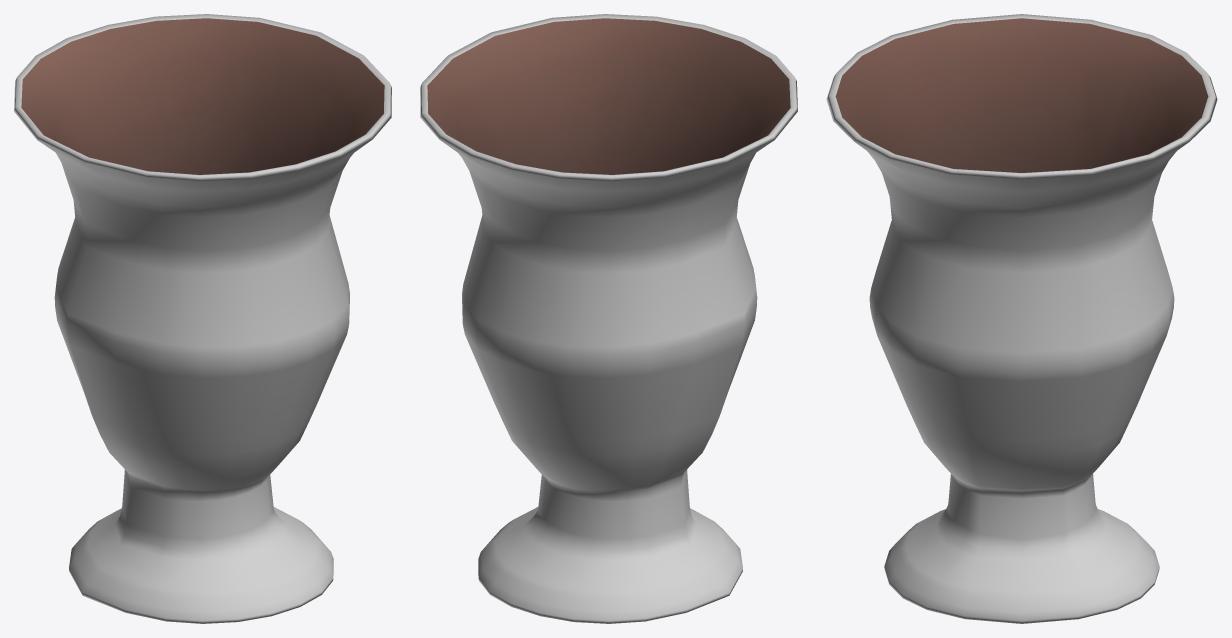
File: Jar_musuem5 1.fbx
3 views of the same model, side by side, from view 1: azimuth 30°, elevation 25°; view 2: azimuth 150°, elevation 25°; view 3: azimuth 270°, elevation 25° (orthographic).
Parts seen in each view (by area): view 1: nurbsToPoly5, nurbsToPoly4; view 2: nurbsToPoly5, nurbsToPoly4; view 3: nurbsToPoly5, nurbsToPoly4.
Part boxes in pixels (x1,y1,x2,y2): nurbsToPoly5: (14, 14, 391, 623); nurbsToPoly4: (21, 18, 384, 174); nurbsToPoly5: (420, 14, 797, 623); nurbsToPoly4: (427, 18, 790, 174); nurbsToPoly5: (826, 14, 1217, 623); nurbsToPoly4: (835, 18, 1208, 172).
Size of the model in its own units: 4.2 by 5.77 by 4.3.
